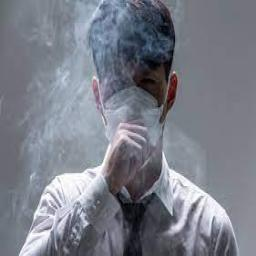Low smoke: (15, 0, 219, 191)
